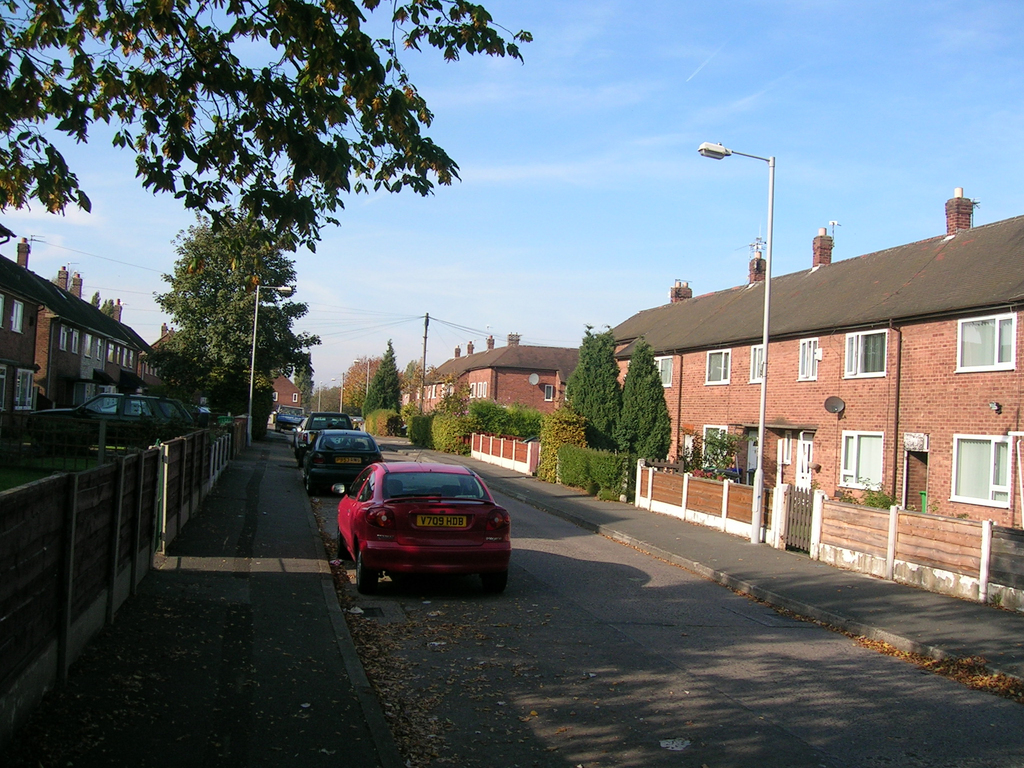Car: (330, 462, 513, 595), (17, 394, 197, 449), (299, 423, 387, 490), (292, 405, 365, 463), (268, 403, 303, 428)
